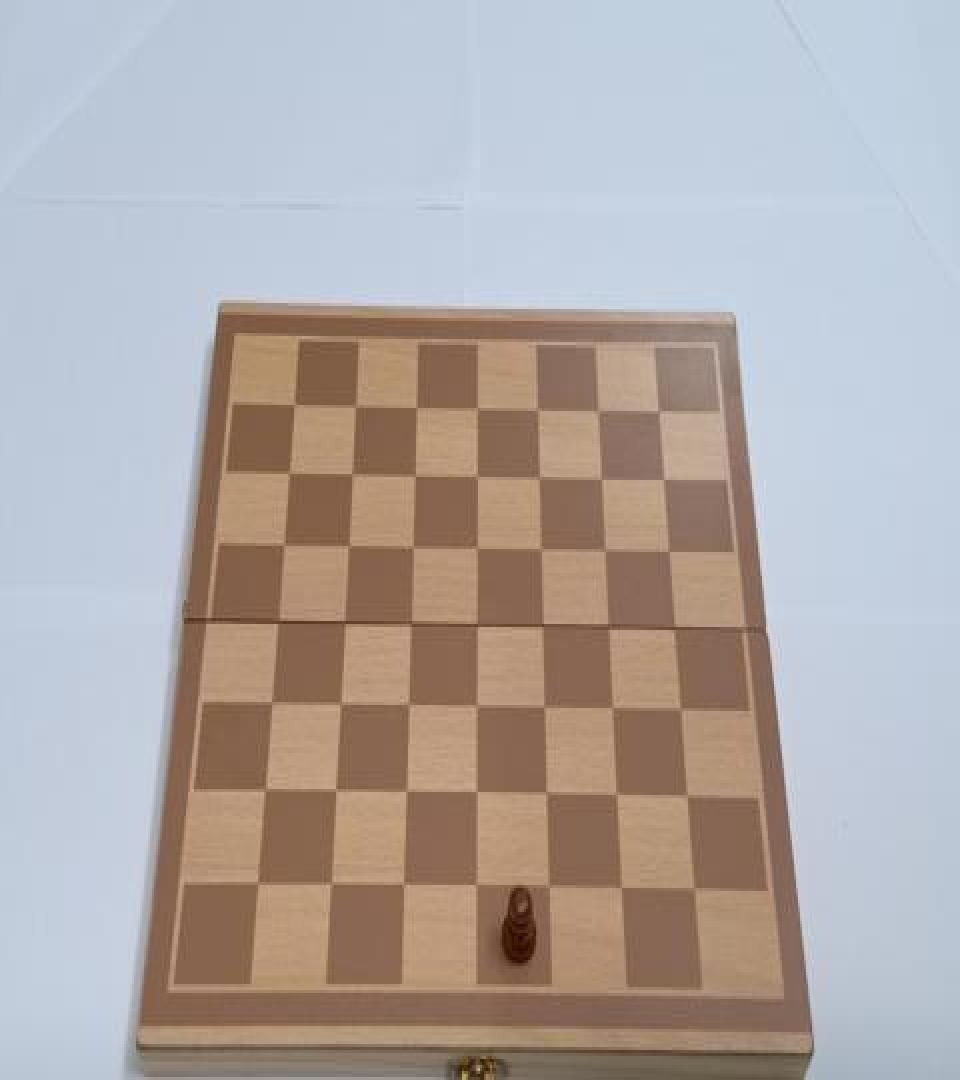xcorner: (346, 394, 364, 422), (406, 394, 424, 422), (398, 694, 416, 722), (529, 466, 547, 494), (591, 466, 609, 494), (285, 393, 303, 420), (280, 462, 298, 489), (274, 534, 292, 561), (269, 610, 287, 637), (256, 778, 274, 805), (249, 870, 267, 897), (342, 462, 360, 489), (335, 612, 353, 639), (330, 693, 348, 720), (326, 780, 344, 807), (396, 780, 414, 807), (394, 873, 412, 900), (467, 396, 485, 423), (467, 465, 485, 492), (467, 537, 485, 564), (466, 696, 484, 723), (466, 874, 484, 901), (527, 397, 545, 424), (531, 538, 549, 565), (533, 615, 551, 642), (534, 696, 552, 723), (537, 783, 555, 810), (539, 874, 557, 901), (588, 399, 606, 426), (595, 540, 613, 567), (599, 617, 617, 644), (607, 785, 625, 812), (611, 876, 629, 903), (649, 399, 667, 426), (654, 468, 672, 495), (659, 540, 677, 567), (665, 618, 683, 645), (670, 699, 688, 726), (677, 786, 695, 813), (262, 692, 280, 718), (338, 536, 356, 562), (322, 872, 340, 898), (404, 464, 422, 490), (403, 536, 421, 562), (401, 614, 419, 640), (467, 614, 485, 640), (466, 782, 484, 808), (602, 698, 620, 724), (683, 878, 701, 904)
